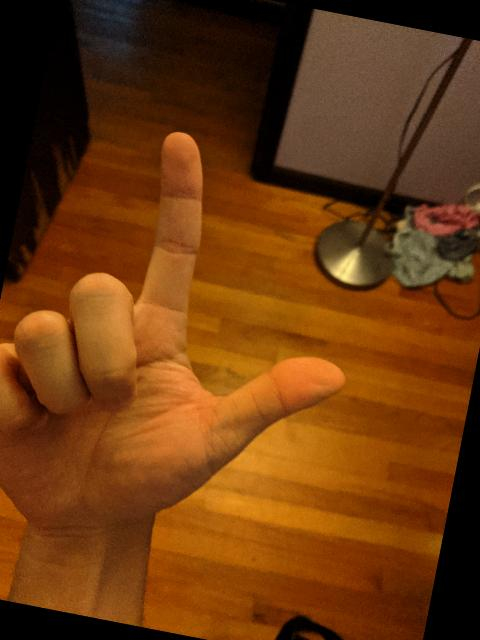L: (0, 95, 394, 586)
